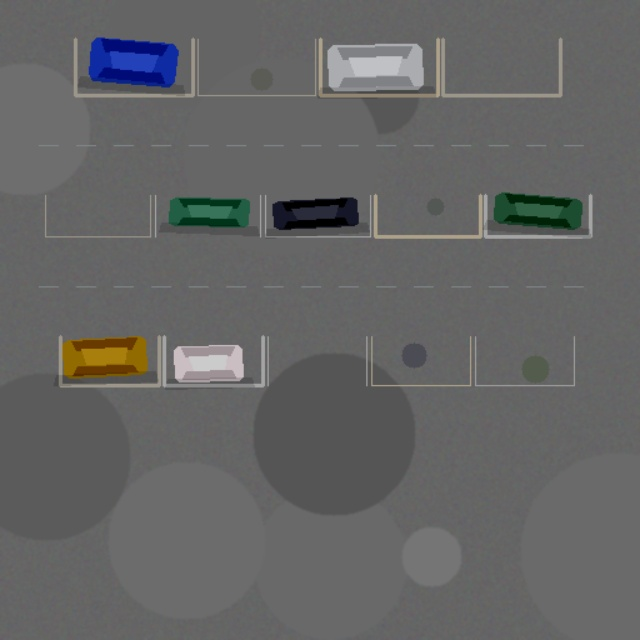space-empty: (442, 39, 560, 95), (198, 39, 315, 95), (267, 336, 366, 385), (371, 336, 470, 385), (475, 336, 574, 385), (45, 195, 150, 236), (375, 195, 480, 236)
space-occupied: (320, 39, 438, 95), (75, 39, 192, 95), (60, 336, 159, 385), (164, 336, 263, 385), (155, 195, 260, 236), (265, 195, 370, 236), (485, 195, 590, 236)
